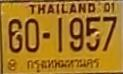0: (26, 18, 40, 52)
1: (58, 17, 62, 52)
5: (85, 16, 100, 51)
6: (9, 18, 23, 52)
7: (102, 16, 116, 50)
9: (69, 17, 83, 51)
BKK: (26, 58, 100, 72)
